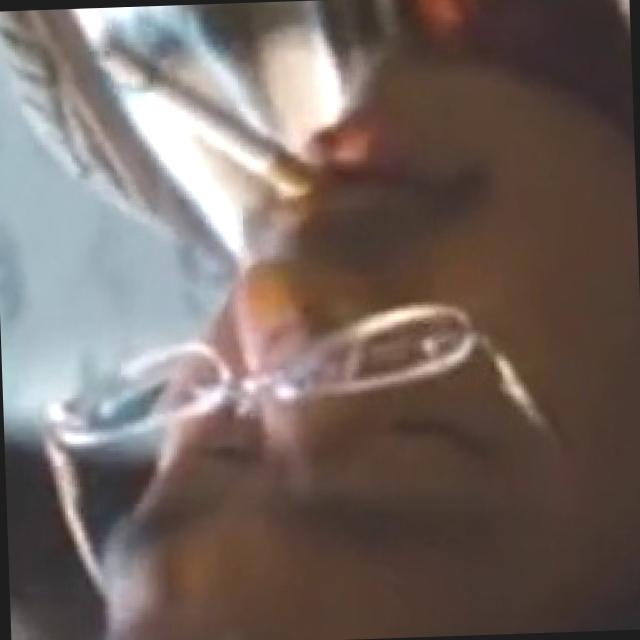cigarette: (82, 27, 358, 202)
